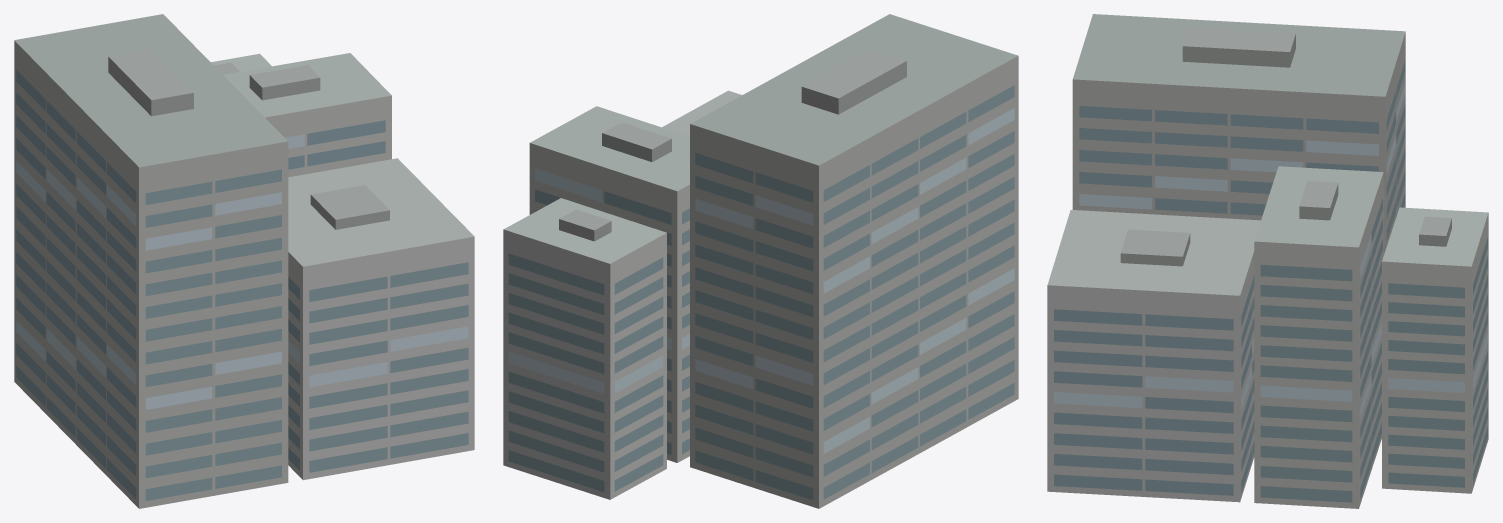
File: apt-a10026710.glb
3 views of the same model, side by side, from view 1: azimuth 30°, elevation 25°; view 2: azimuth 150°, elevation 25°; view 3: azimuth 270°, elevation 25° (orthographic). The views are drawn at different scales.
Parts seen in each view (by area): view 1: apt-a10026710; view 2: apt-a10026710; view 3: apt-a10026710.
Part boxes in pixels (<box>): apt-a10026710: <box>14,14,474,508</box>; apt-a10026710: <box>503,14,1018,508</box>; apt-a10026710: <box>1047,14,1488,508</box>.
Bounding box in the file's own units: 48.99 × 48 × 55.47.
